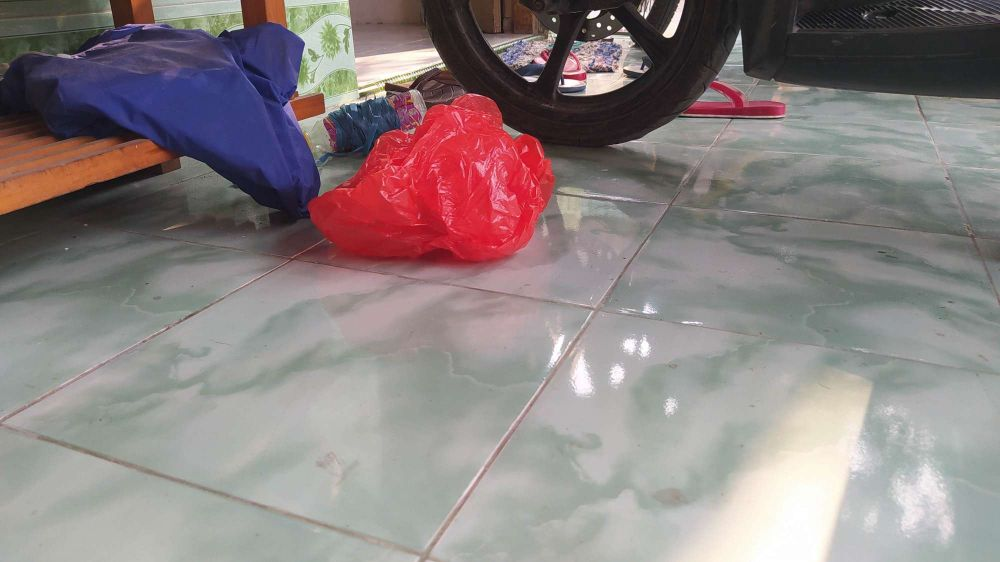plastik: (302, 95, 567, 269)
